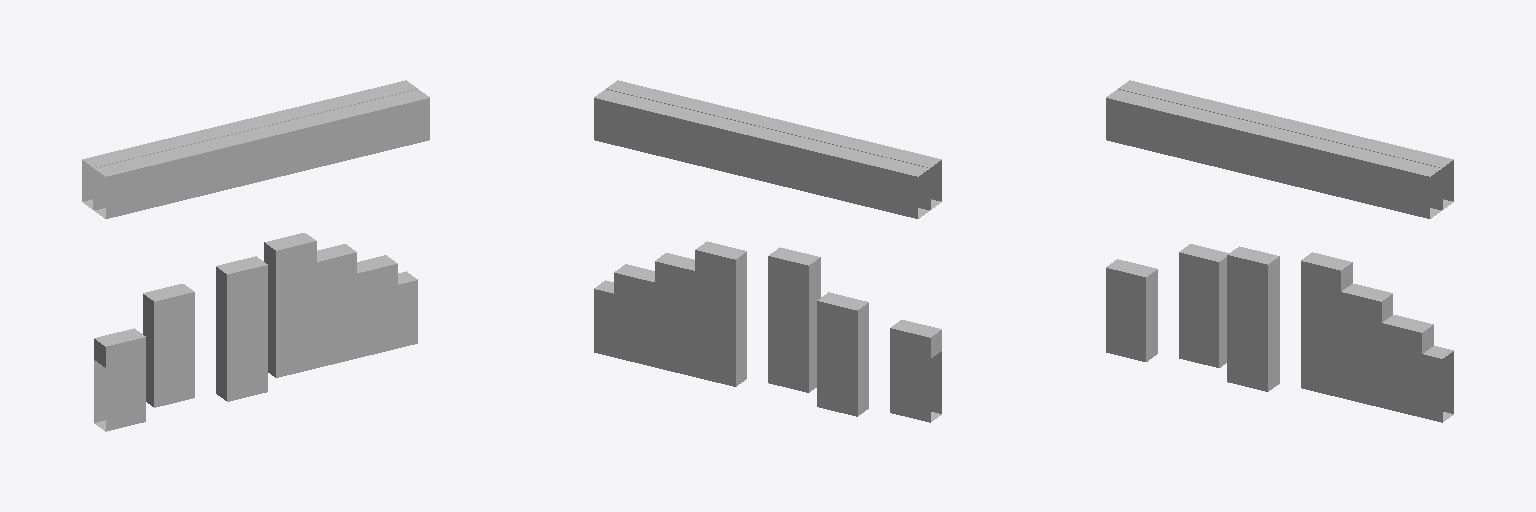
The model's file is Colby11NoMat.obj.
3 views of the same model, side by side, from view 1: azimuth 30°, elevation 25°; view 2: azimuth 150°, elevation 25°; view 3: azimuth 330°, elevation 25° (orthographic).
Parts seen in each view (by area): view 1: Plane, Plane.001_Plane.002; view 2: Plane.001_Plane.002, Plane; view 3: Plane, Plane.001_Plane.002.
Boxes of the visible parts, x1,y1,x2,y2 form: Plane: [94, 89, 429, 431]; Plane.001_Plane.002: [82, 80, 417, 407]; Plane.001_Plane.002: [594, 89, 929, 416]; Plane: [606, 80, 941, 422]; Plane: [1106, 89, 1441, 391]; Plane.001_Plane.002: [1118, 80, 1453, 422].
Size of the model in its own units: 16 by 12 by 2.04.